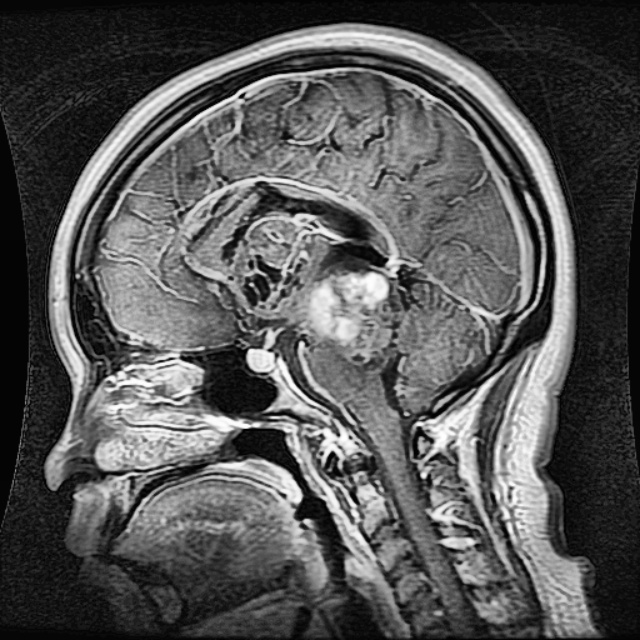Meningioma: (313, 268, 392, 375)
